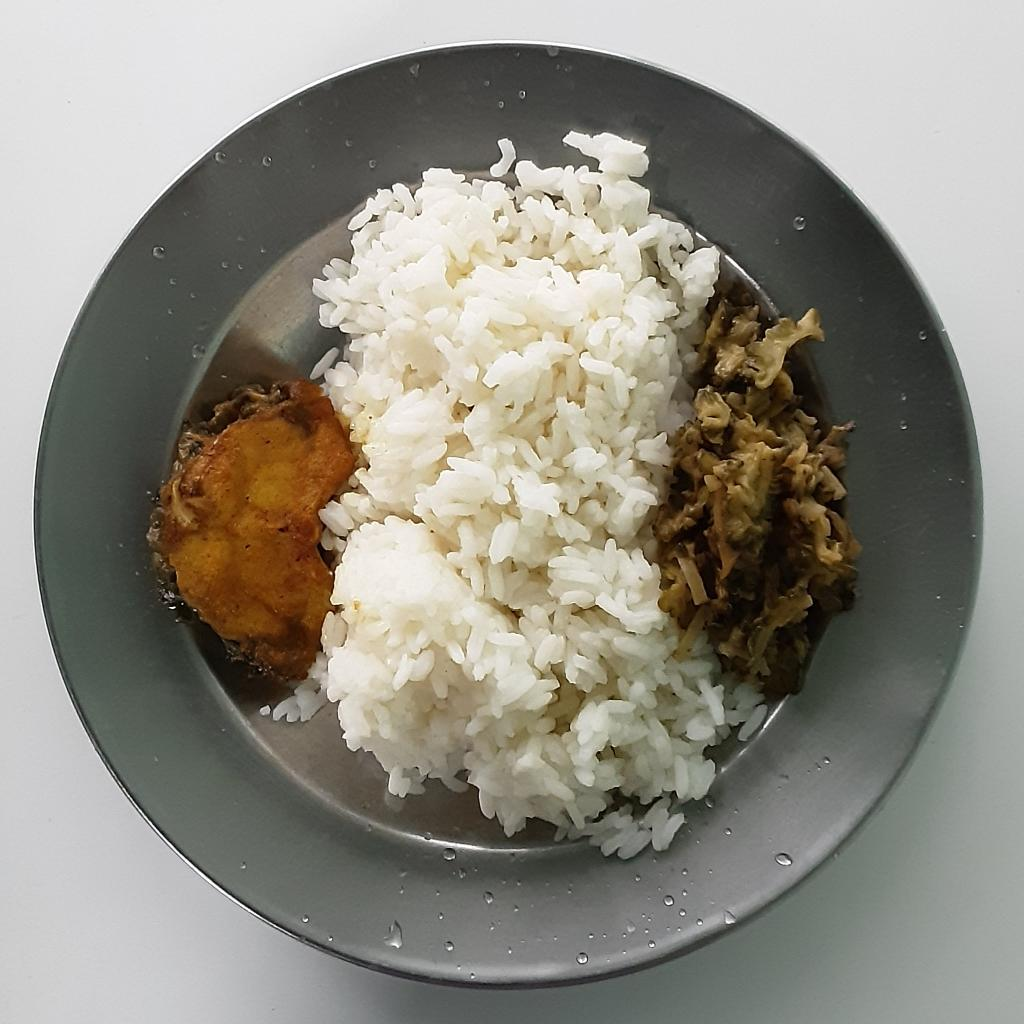fish: (148, 378, 362, 682)
korola-vaji: (651, 288, 862, 700)
rice: (256, 129, 777, 860)
